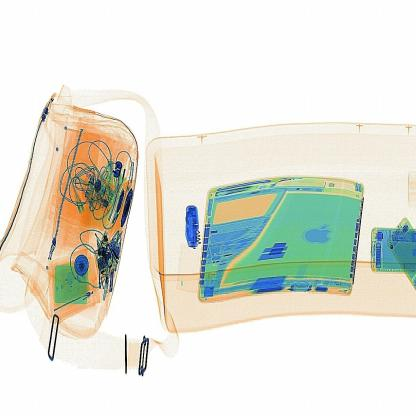scissors: (173, 189, 202, 250)
